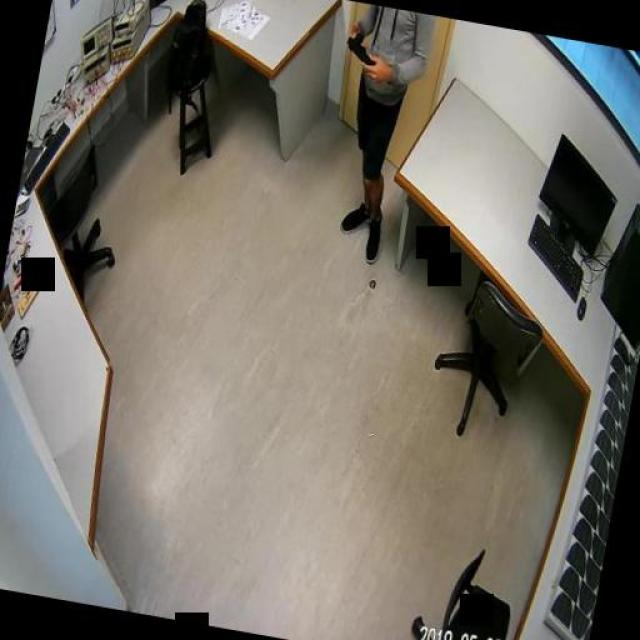gun: (340, 25, 379, 66)
